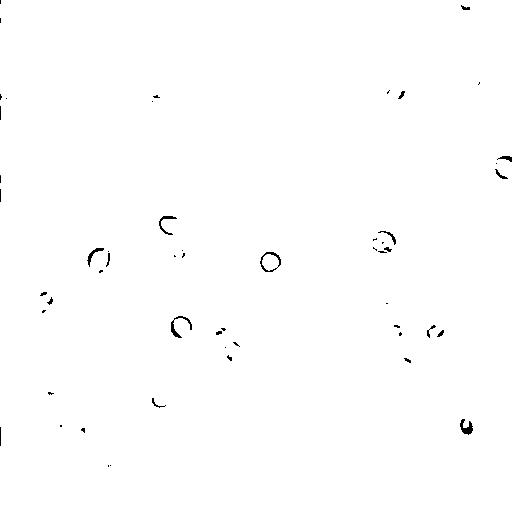micro-algae: (266, 436, 350, 511), (34, 254, 94, 315), (32, 416, 81, 460), (206, 324, 243, 362), (404, 80, 440, 114), (367, 292, 407, 320), (60, 414, 98, 442), (86, 244, 113, 277), (158, 0, 186, 27), (96, 446, 122, 475), (370, 229, 398, 255), (150, 383, 176, 410), (40, 370, 68, 395), (157, 214, 186, 238), (168, 314, 194, 340), (362, 428, 390, 451), (476, 73, 499, 100), (31, 290, 53, 316), (0, 183, 15, 220), (386, 80, 408, 105), (379, 323, 407, 342), (260, 250, 282, 274), (493, 154, 512, 180), (168, 238, 189, 261), (223, 341, 244, 364), (390, 355, 413, 374), (424, 321, 446, 340), (457, 416, 474, 436), (0, 95, 11, 120), (456, 0, 478, 11), (0, 0, 10, 20), (1, 426, 10, 445)
